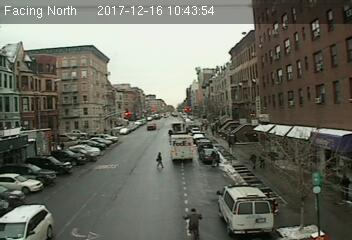bicycle: (183, 206, 204, 239)
car: (1, 203, 55, 240), (200, 147, 219, 161)
pedestrian: (154, 151, 165, 169), (250, 152, 259, 170), (211, 151, 219, 167)
police: (214, 181, 275, 236)
truck: (169, 134, 193, 162)
